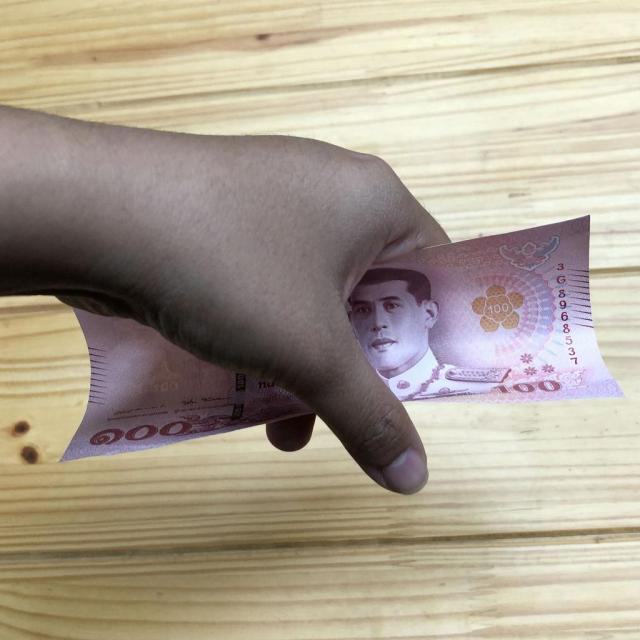THAI100: (347, 217, 626, 404), (61, 309, 315, 463)
